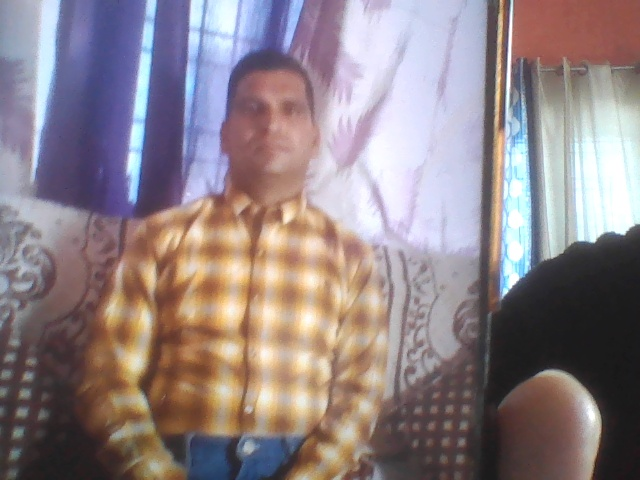fake: (221, 21, 335, 182)
